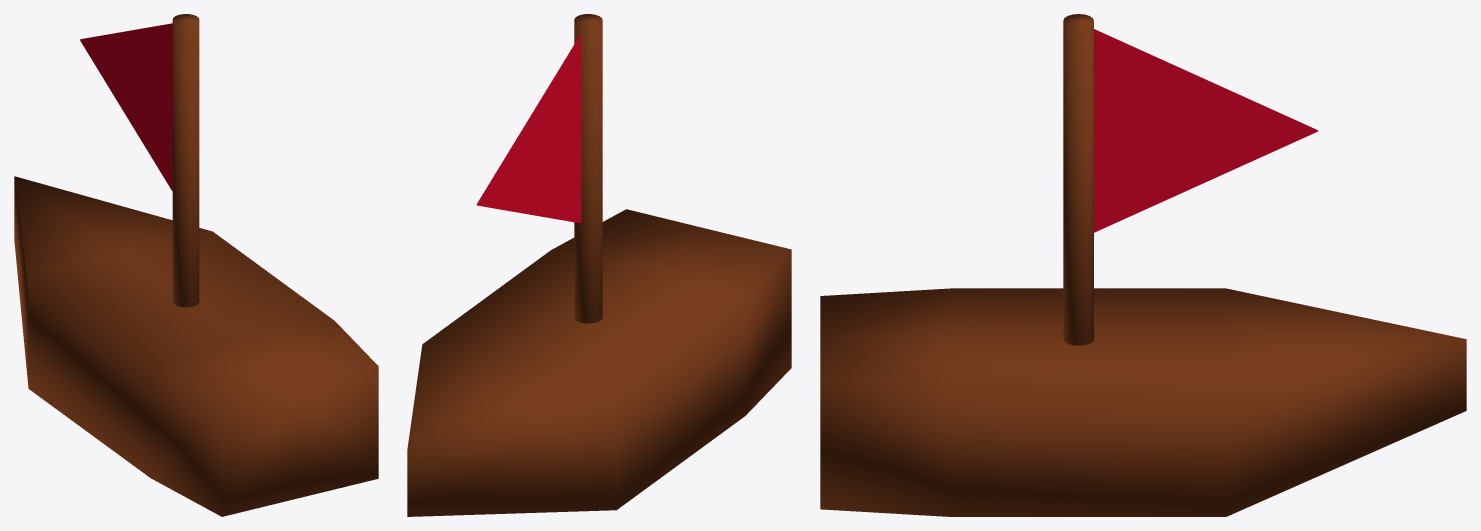
File: Boat.fbx
3 renders of one model, left to right at view 1: azimuth 30°, elevation 25°; view 2: azimuth 150°, elevation 25°; view 3: azimuth 270°, elevation 25°, orthographic. The views are drawn at different scales.
Visible parts, largest first — view 1: Cube.006, Plane; view 2: Cube.006, Plane; view 3: Cube.006, Plane.
Part boxes in pixels (box(x1,y1,x2,y2)): Cube.006: box(14, 14, 378, 516); Plane: box(80, 23, 172, 191); Cube.006: box(407, 14, 791, 516); Plane: box(476, 33, 581, 223); Cube.006: box(820, 14, 1466, 516); Plane: box(1094, 29, 1318, 232).
Bounding box in the file's own units: 200 × 420 × 538.
